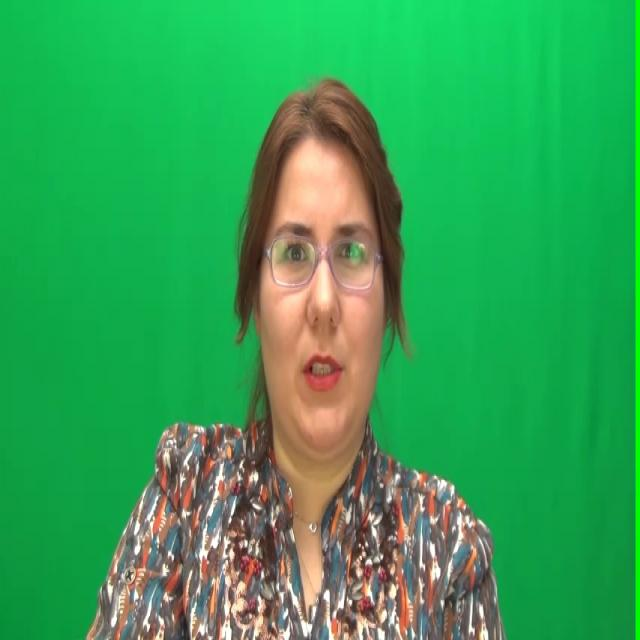Boredom: (260, 153, 382, 436)
